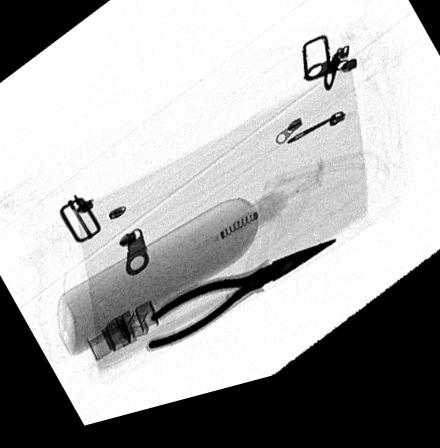Pliers: (147, 255, 339, 360)
